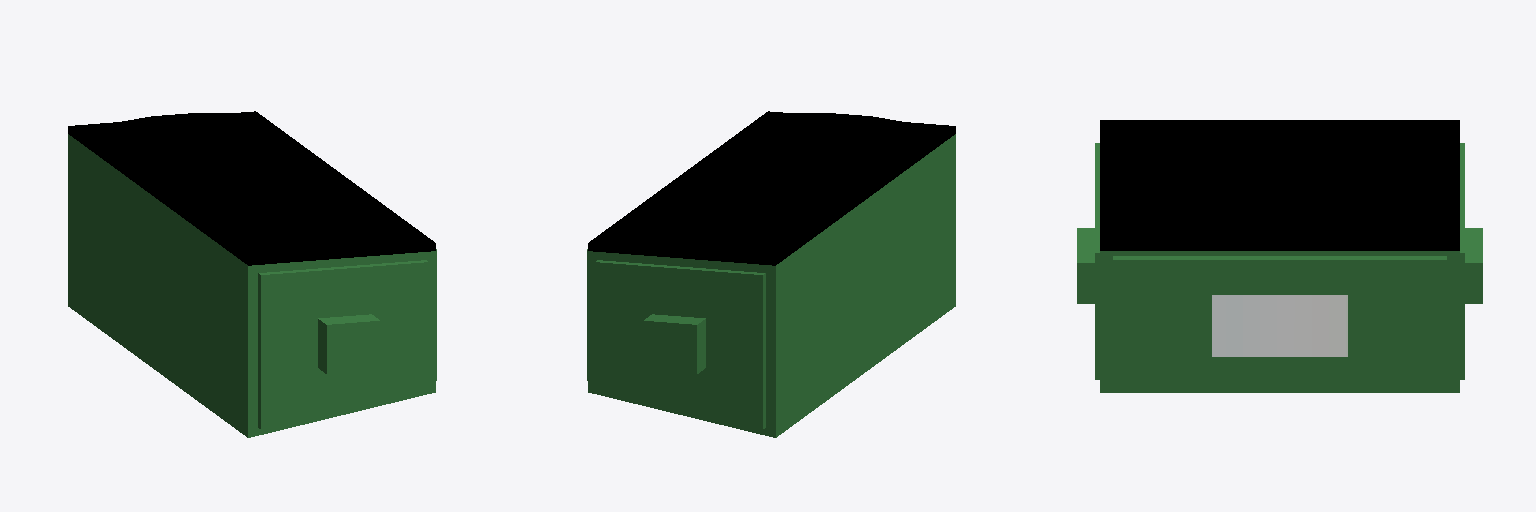
3 renders of one model, left to right at view 1: azimuth 30°, elevation 25°; view 2: azimuth 150°, elevation 25°; view 3: azimuth 270°, elevation 25°, orthographic.
Parts seen in each view (by area): view 1: Cube.006_Cube.024; view 2: Cube.006_Cube.024; view 3: Cube.006_Cube.024.
Boxes of the visible parts, <box> form: Cube.006_Cube.024: <box>68,111,436,437</box>; Cube.006_Cube.024: <box>587,111,955,437</box>; Cube.006_Cube.024: <box>1077,120,1482,392</box>.
Bounding box in the file's own units: 3.37 × 3.06 × 6.07.
Materials: 1 (1 with a texture image).